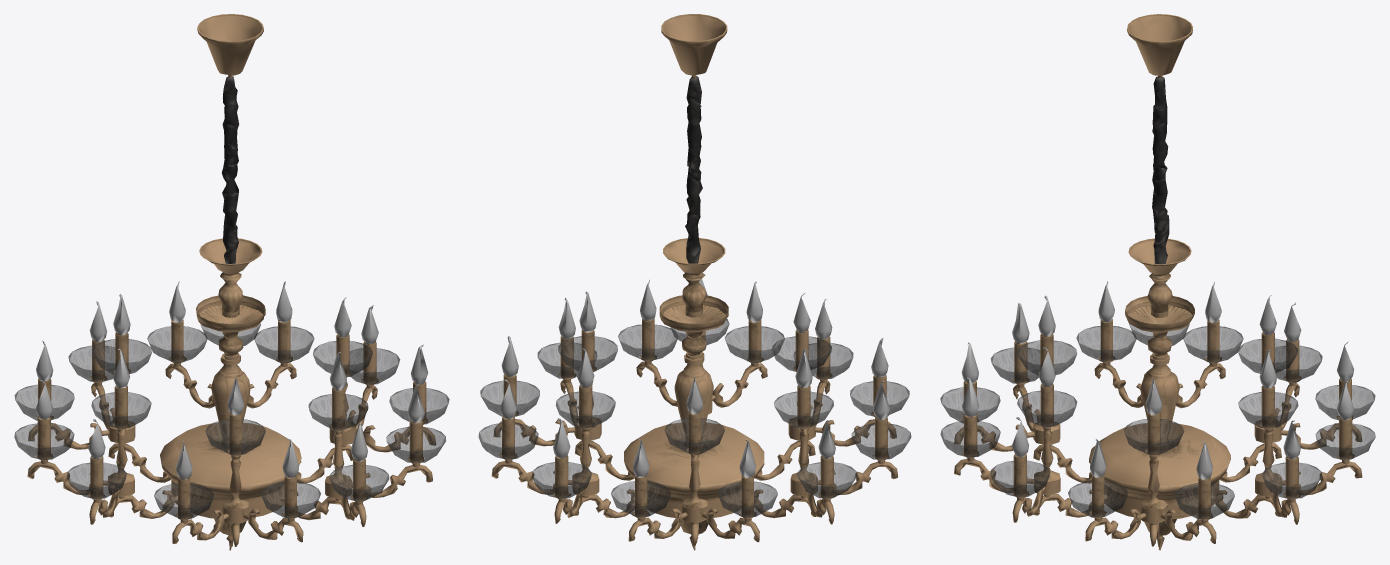
Rendered from Chandelier_03.glb.
3 views of the same model, side by side, from view 1: azimuth 30°, elevation 25°; view 2: azimuth 150°, elevation 25°; view 3: azimuth 270°, elevation 25° (orthographic).
Visible parts, largest first — view 1: Chandelier_03; view 2: Chandelier_03; view 3: Chandelier_03.
Boxes of the visible parts, <box> form: Chandelier_03: <box>14,14,449,550</box>; Chandelier_03: <box>478,14,911,550</box>; Chandelier_03: <box>940,14,1375,550</box>.
Bounding box in the file's own units: 0.7804 × 1.04 × 0.7853.
2 materials, 2 textured.
